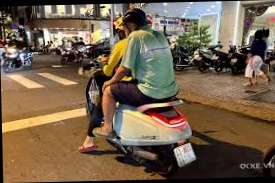Bien-so: (173, 145, 196, 172)
